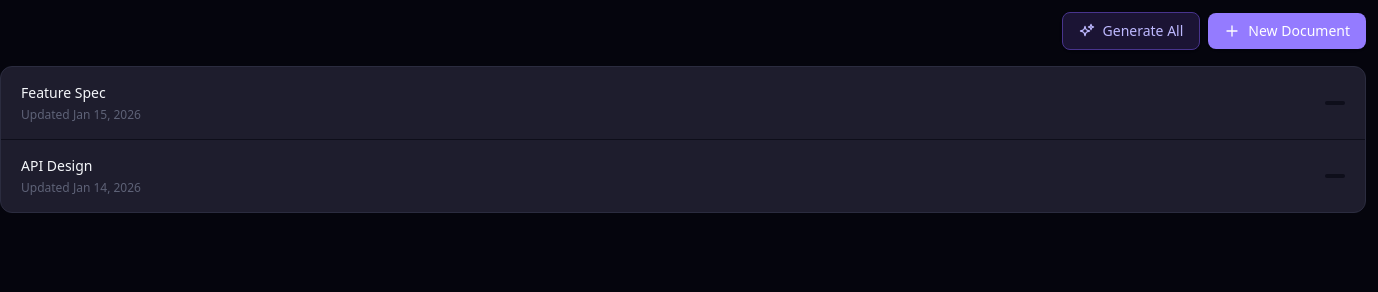
Test case: DocumentList › shows error banner when generation fails entirely
Click the button with test id "generate-all-btn": (1131, 31) [1062,12,1200,50]
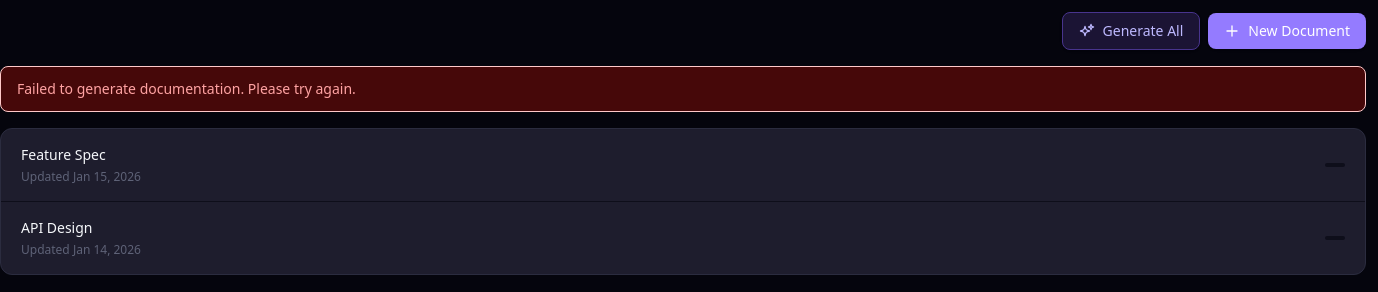
Result: the text "Failed to generate documentation. Please try again." is shown at [0,66,1366,112]
